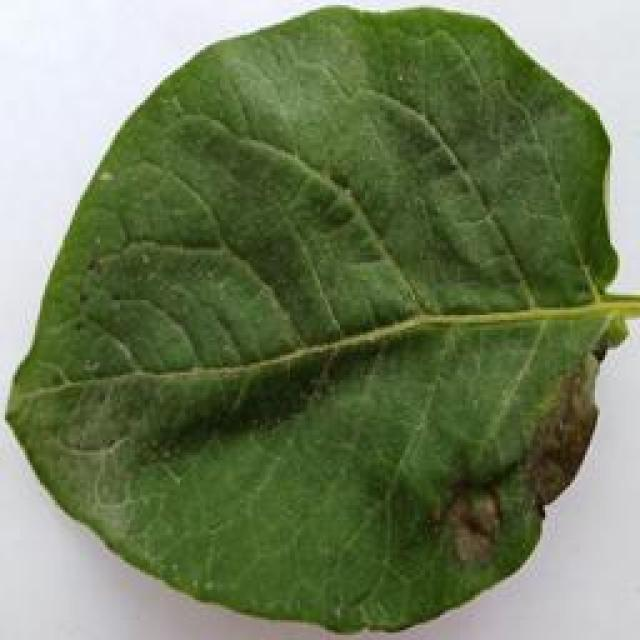Potato_Late_Blight: (9, 9, 632, 628)
